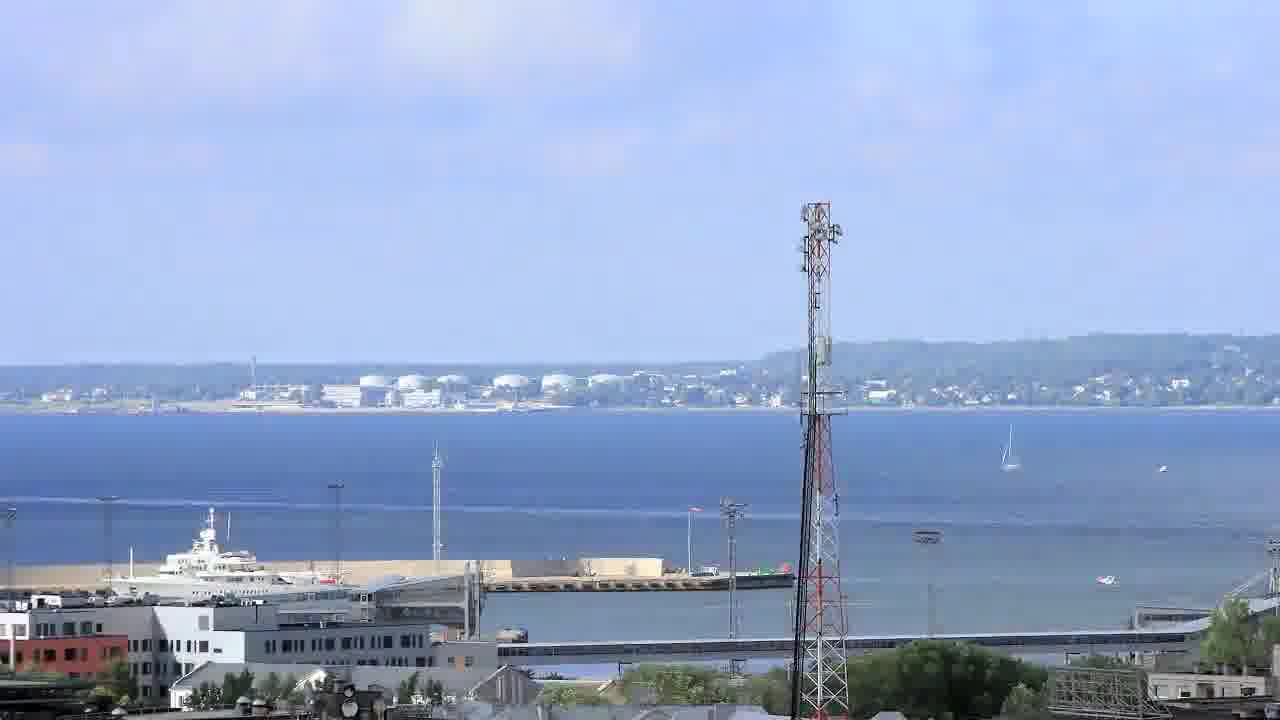type-2: (984, 420, 1039, 482)
type-3: (96, 508, 381, 605)
type-4: (1086, 556, 1127, 599), (1150, 452, 1189, 483)
